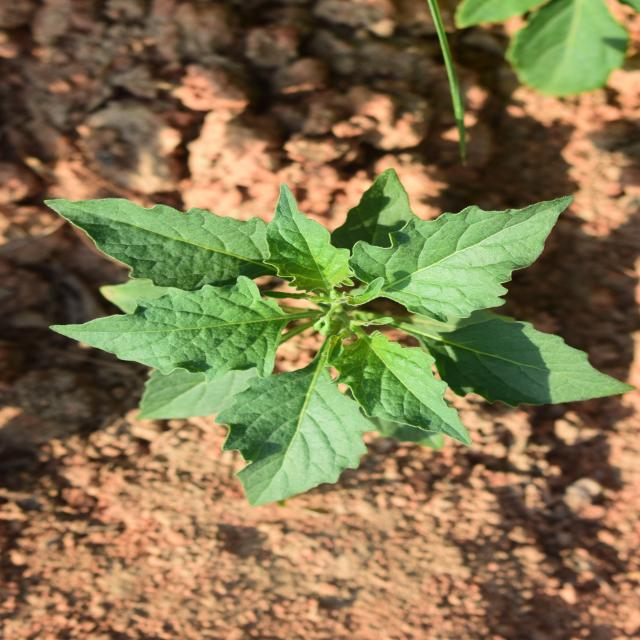Black_nightshade: (163, 40, 463, 583)
